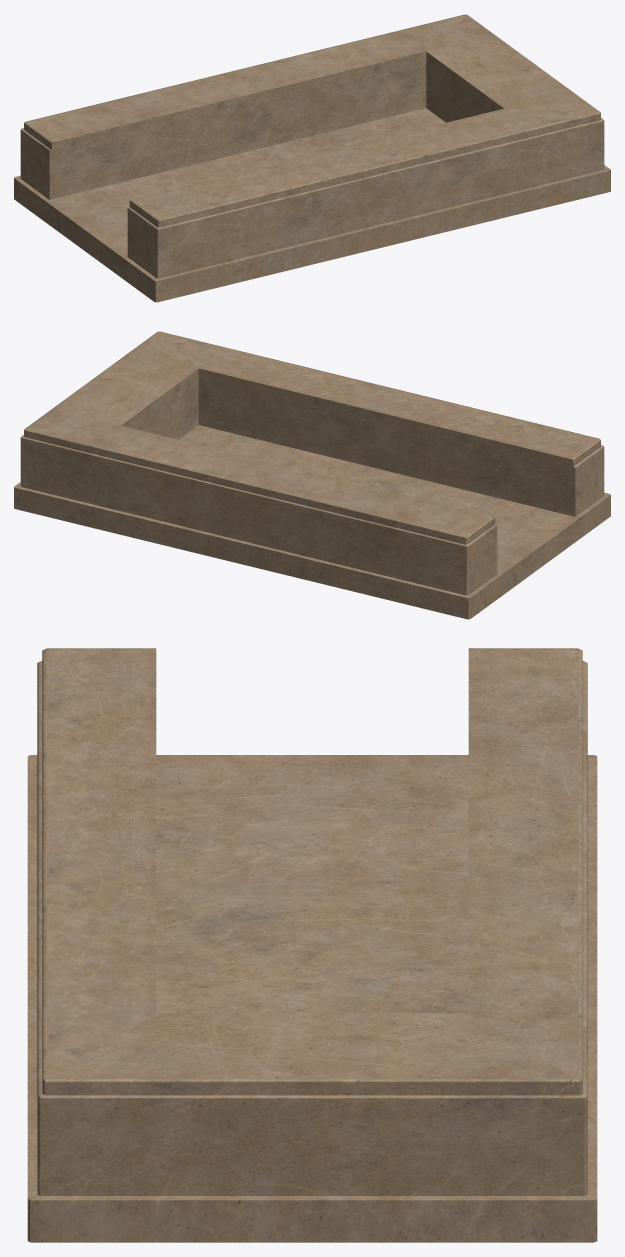
Rendered from SM_MausoleumBaseB.fbx.
The picture shows the model from 3 angles, top to bottom: view 1: azimuth 30°, elevation 25°; view 2: azimuth 150°, elevation 25°; view 3: azimuth 270°, elevation 25°; orthographic projection. The views are drawn at different scales.
Parts seen in each view (by area): view 1: SM_MausoleumBaseB_LOD0; view 2: SM_MausoleumBaseB_LOD0; view 3: SM_MausoleumBaseB_LOD0.
Boxes of the visible parts, <box> form: SM_MausoleumBaseB_LOD0: <box>14,14,610,302</box>; SM_MausoleumBaseB_LOD0: <box>14,331,610,619</box>; SM_MausoleumBaseB_LOD0: <box>27,648,597,1242</box>.
Size of the model in its own units: 302 by 163 by 49.18.
Materials: 1 (1 with a texture image).
